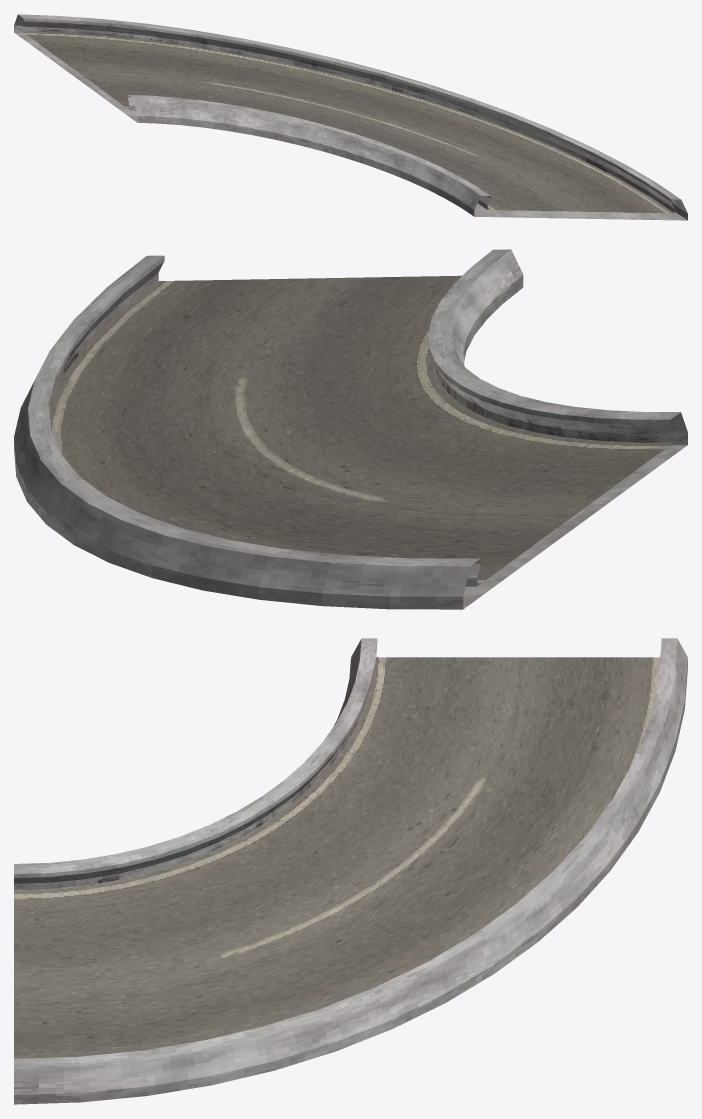
File: turn-left2x2.glb
3 renders of one model, top to bottom at view 1: azimuth 30°, elevation 25°; view 2: azimuth 150°, elevation 25°; view 3: azimuth 270°, elevation 25°, orthographic. The views are drawn at different scales.
Parts seen in each view (by area): view 1: road-Turn-HalfBankedRight-BiSlopeUp-Up2-Left-Size2; view 2: road-Turn-HalfBankedRight-BiSlopeUp-Up2-Left-Size2; view 3: road-Turn-HalfBankedRight-BiSlopeUp-Up2-Left-Size2.
Boxes of the visible parts, x1=… form: road-Turn-HalfBankedRight-BiSlopeUp-Up2-Left-Size2: x1=14, y1=14, x2=687, y2=220; road-Turn-HalfBankedRight-BiSlopeUp-Up2-Left-Size2: x1=14, y1=249, x2=687, y2=609; road-Turn-HalfBankedRight-BiSlopeUp-Up2-Left-Size2: x1=14, y1=638, x2=687, y2=1104.
Bounding box in the file's own units: 2 × 0.5937 × 2.
2 materials, 2 textured.
